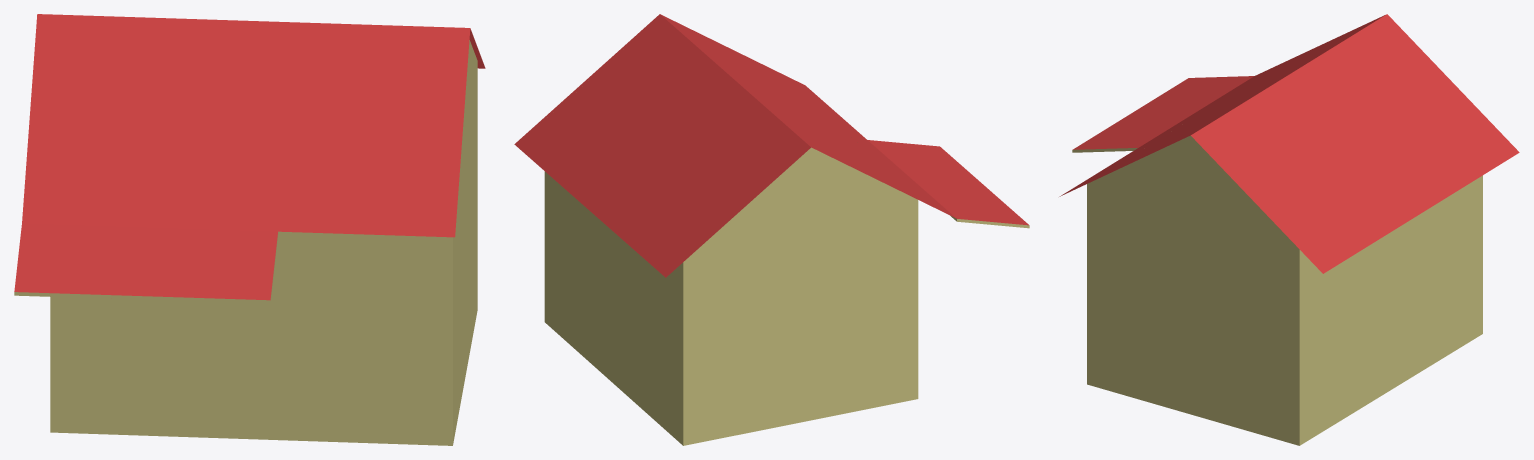
3 renders of one model, left to right at view 1: azimuth 30°, elevation 25°; view 2: azimuth 150°, elevation 25°; view 3: azimuth 270°, elevation 25°, orthographic. The views are drawn at different scales.
Bounding box in the file's own units: 15.92 × 14.29 × 9.61.
